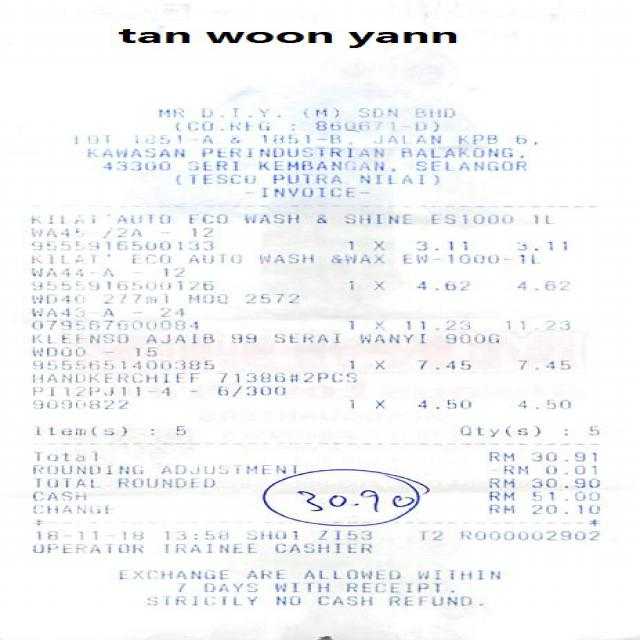text: (28, 238, 210, 250), (344, 30, 454, 48), (25, 358, 211, 368), (29, 372, 196, 383), (199, 147, 382, 157), (28, 280, 210, 290), (203, 30, 329, 42), (255, 160, 392, 171), (459, 529, 596, 540), (398, 146, 521, 158), (158, 464, 298, 474), (217, 372, 354, 382), (31, 386, 168, 396), (401, 253, 532, 263), (314, 119, 430, 130), (343, 581, 452, 592), (29, 464, 141, 474), (30, 542, 140, 552), (415, 160, 524, 170), (145, 595, 254, 605), (115, 27, 187, 42), (117, 569, 225, 579), (258, 186, 356, 197), (84, 147, 182, 157), (300, 569, 398, 579), (33, 530, 141, 539), (29, 399, 126, 409), (272, 542, 369, 552), (387, 595, 480, 605), (32, 425, 124, 435), (163, 542, 253, 552), (173, 173, 253, 184), (356, 173, 436, 184), (28, 228, 138, 236), (29, 334, 126, 343), (116, 478, 213, 487), (199, 106, 278, 117), (459, 425, 538, 436), (171, 121, 267, 130), (26, 252, 96, 264), (427, 214, 510, 224), (416, 569, 498, 579), (25, 268, 116, 277), (258, 133, 338, 143), (131, 134, 210, 144), (120, 319, 196, 329), (500, 320, 574, 330), (216, 385, 283, 396), (357, 332, 423, 343), (513, 279, 568, 292), (531, 450, 594, 461), (32, 450, 94, 461), (271, 174, 339, 184), (30, 504, 105, 513), (100, 160, 167, 170), (144, 333, 211, 343), (530, 503, 597, 513), (272, 333, 338, 343), (28, 308, 110, 316), (343, 214, 408, 224), (100, 293, 164, 303), (404, 320, 468, 330), (271, 581, 326, 592), (530, 478, 597, 487), (378, 134, 438, 144), (531, 491, 597, 500), (317, 529, 369, 540), (315, 595, 371, 605), (163, 530, 225, 539), (256, 253, 311, 263), (243, 213, 297, 223), (328, 253, 382, 263), (414, 399, 468, 409), (32, 478, 92, 487), (243, 293, 296, 303), (30, 346, 83, 356), (416, 359, 469, 369), (115, 213, 167, 223), (186, 253, 238, 263), (444, 333, 496, 343), (516, 359, 568, 369), (516, 399, 568, 409), (186, 160, 236, 170), (414, 240, 464, 250), (543, 464, 593, 474), (516, 240, 564, 250), (30, 491, 83, 500), (415, 281, 467, 290), (202, 582, 254, 591), (243, 530, 294, 539), (28, 216, 92, 223), (27, 294, 74, 303), (357, 106, 395, 117), (455, 134, 495, 144), (186, 214, 226, 224), (127, 252, 167, 262), (300, 106, 336, 117), (185, 293, 224, 303), (245, 568, 282, 578), (346, 240, 382, 250), (413, 108, 452, 117), (72, 134, 106, 144), (346, 319, 380, 329), (347, 359, 381, 369), (347, 398, 381, 408), (347, 280, 381, 289), (486, 450, 512, 461), (272, 595, 299, 605), (500, 464, 526, 474), (486, 503, 512, 513), (156, 107, 181, 117), (486, 478, 513, 487), (511, 134, 535, 144), (486, 491, 512, 500), (231, 333, 254, 343), (133, 346, 153, 356), (419, 530, 439, 540), (162, 266, 181, 276), (170, 425, 189, 435), (189, 227, 210, 236), (159, 308, 181, 316), (531, 214, 546, 224), (312, 213, 325, 223), (587, 425, 596, 435), (174, 582, 183, 591), (228, 136, 238, 142)
